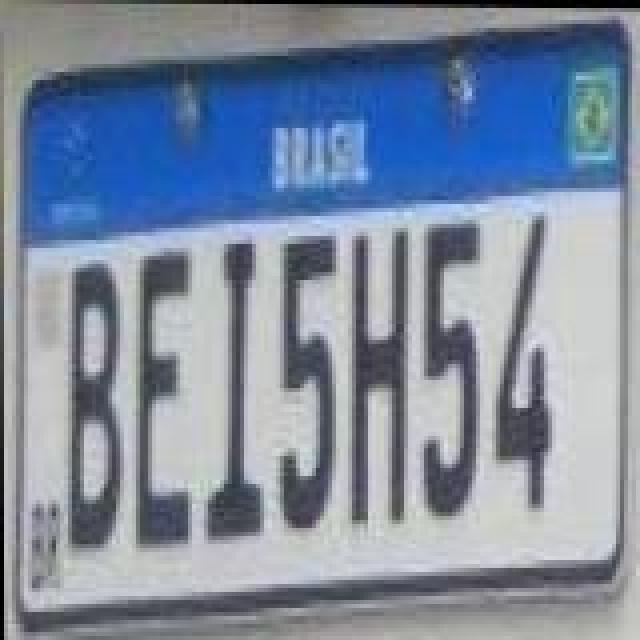4: (492, 212, 552, 512)
5: (276, 226, 336, 534), (420, 220, 480, 520)
B: (64, 264, 124, 556)
E: (132, 244, 192, 552)
H: (346, 218, 410, 526)
I: (204, 232, 264, 540)
